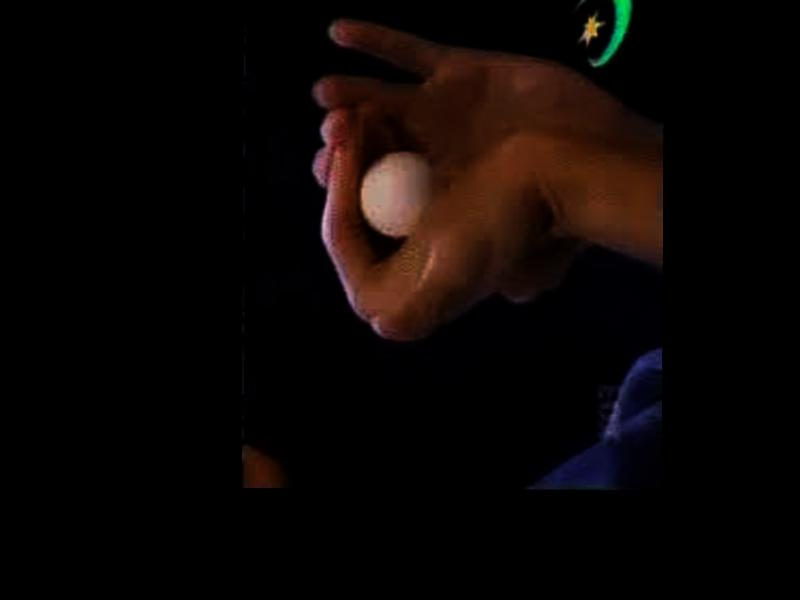Eggs: (357, 149, 426, 240)
